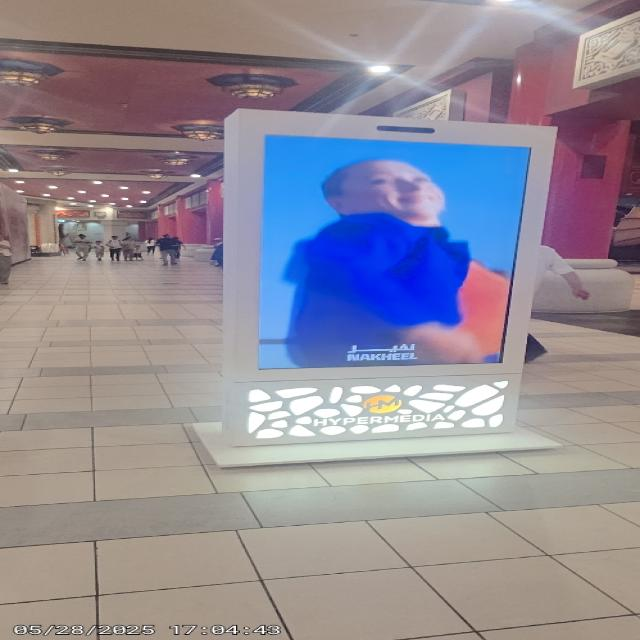mupi: (236, 108, 550, 445)
